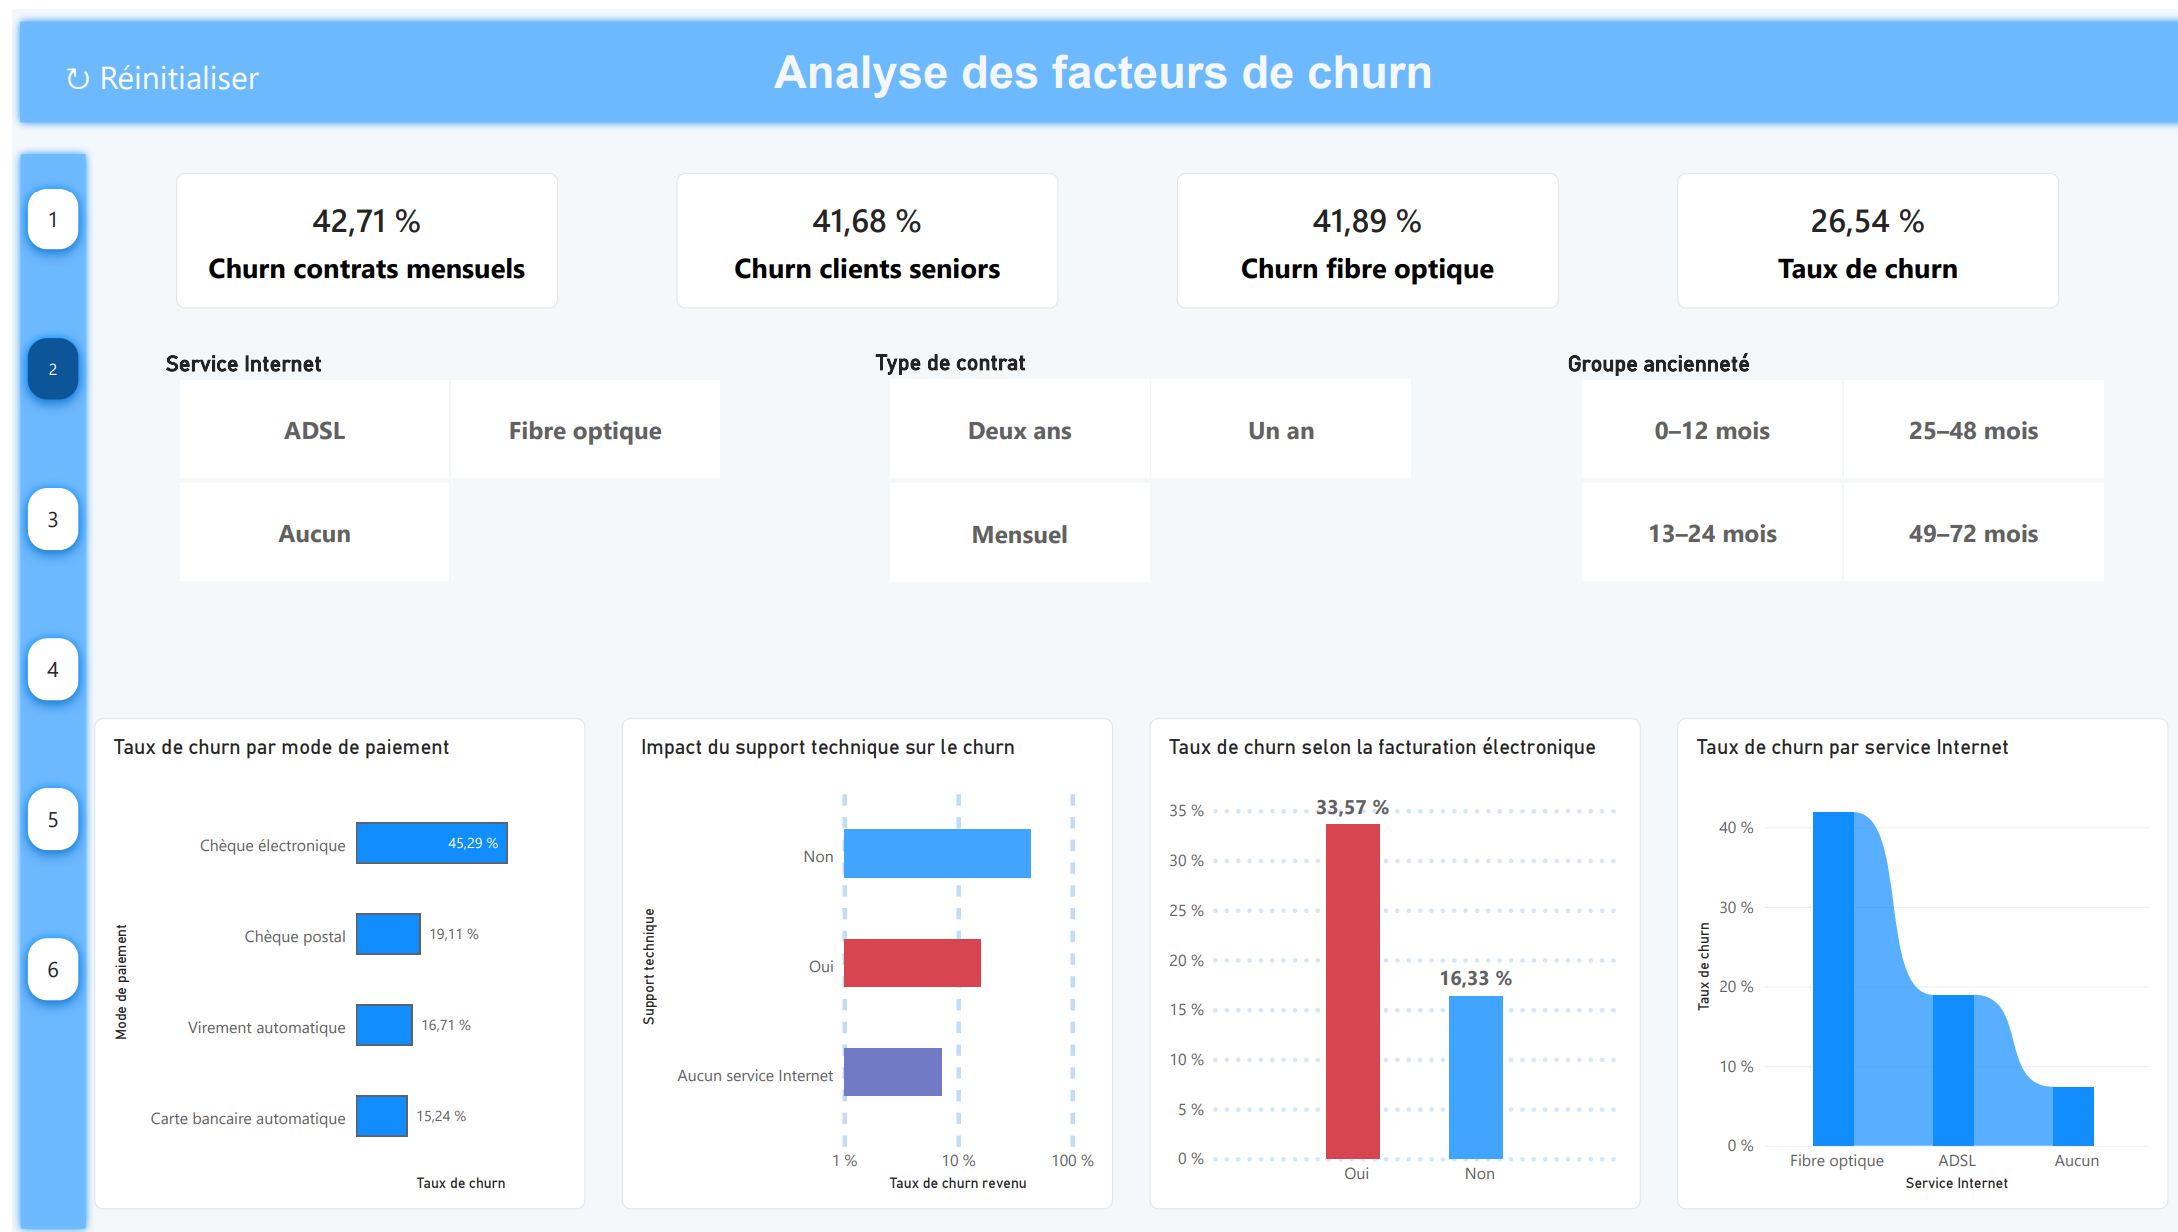

Layout of this report page (visuals, bound fields, positions):
{"tool":"powerbi","page":{"name":"2","canvas":[1920,1080],"ordinal":1},"visuals":[{"type":"shape","box":[0,3.3,1920,103.3],"z":0},{"type":"card","fields":{"Values":["_Mesures.Churn contrats mensuels"]},"box":[144,144,336,120],"z":1000},{"type":"card","fields":{"Values":["Clients.Churn clients seniors"]},"box":[584,144,336,120],"z":2000},{"type":"card","fields":{"Values":["_Mesures.Churn fibre optique"]},"box":[1024,144,336,120],"z":3000},{"type":"card","fields":{"Values":["_Mesures.Taux de churn"]},"box":[1464,144,336,120],"z":4000},{"type":"shape","box":[0,120,72,960],"z":5000},{"type":"clusteredBarChart","title":"Taux de churn par mode de paiement","fields":{"Category":["Clients.Mode de paiement"],"Y":["Mesures.Taux de churn"]},"box":[72,624,432,432],"z":6000},{"type":"ribbonChart","title":"Taux de churn par service Internet","fields":{"Category":["Clients.Service Internet"],"Y":["Mesures.Taux de churn"]},"box":[1464,624,432,432],"z":7000},{"type":"clusteredBarChart","title":"Impact du support technique sur le churn","fields":{"Category":["Clients.Support technique"],"Y":["Mesures.Taux de churn revenu"]},"box":[536,624,432,432],"z":8000},{"type":"columnChart","title":"Taux de churn selon la facturation électronique","fields":{"Category":["Clients.Facturation électronique"],"Y":["Mesures.Taux de churn"]},"box":[1000,624,432,432],"z":9000},{"type":"slicer","fields":{"Values":["Clients.Service Internet"]},"box":[126.7,301.4,514,204],"z":10000},{"type":"slicer","fields":{"Values":["Clients.Type de contrat"]},"box":[751.3,300.4,498,206],"z":11000},{"type":"slicer","fields":{"Values":["Clients.Groupe ancienneté"]},"box":[1360,301.4,498,204],"z":12000},{"type":"pageNavigator","box":[0,144,72,744],"z":12001},{"type":"actionButton","box":[24,24,216,72],"z":12002}]}

Visuals, with their boxes in screenshot pixels (x1, y1, x2, y2), scaled from the page's 1920x1080 canvas onto the 2178x1232 screenshot:
shape: region(0, 4, 2177, 122)
card - _Mesures.Churn contrats mensuels: region(163, 164, 544, 301)
card - Clients.Churn clients seniors: region(662, 164, 1044, 301)
card - _Mesures.Churn fibre optique: region(1162, 164, 1543, 301)
card - _Mesures.Taux de churn: region(1661, 164, 2042, 301)
shape: region(0, 137, 82, 1231)
"Taux de churn par mode de paiement" clusteredBarChart: region(82, 712, 572, 1205)
"Taux de churn par service Internet" ribbonChart: region(1661, 712, 2151, 1205)
"Impact du support technique sur le churn" clusteredBarChart: region(608, 712, 1098, 1205)
"Taux de churn selon la facturation électronique" columnChart: region(1134, 712, 1624, 1205)
slicer - Clients.Service Internet: region(144, 344, 727, 577)
slicer - Clients.Type de contrat: region(852, 343, 1417, 578)
slicer - Clients.Groupe ancienneté: region(1543, 344, 2108, 577)
pageNavigator: region(0, 164, 82, 1013)
actionButton: region(27, 27, 272, 110)
